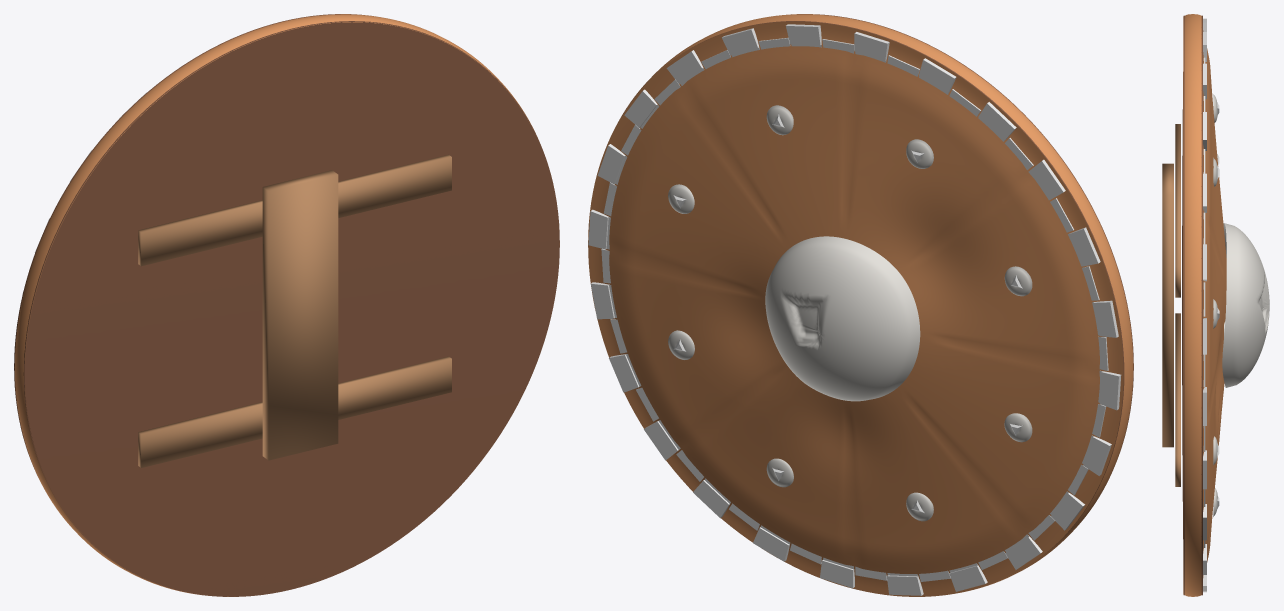
The model's file is pbr_aging_buckler_noring.glb.
3 views of the same model, side by side, from view 1: azimuth 30°, elevation 25°; view 2: azimuth 150°, elevation 25°; view 3: azimuth 270°, elevation 25° (orthographic). The views are drawn at different scales.
Parts seen in each view (by area): view 1: BucklerBackBody_plain, LeatherHandGrip_dielectric, LeatherBackStrap_upper_dielectric, LeatherBackStrap_lower_dielectric, BucklerRoundedOuterEdge_dynamic; view 2: BucklerFrontBody_dynamic, BrassRimInlay_ring, SteelCentralBoss_attached, BucklerRoundedOuterEdge_dynamic, BucklerBackBody_plain; view 3: BucklerRoundedOuterEdge_dynamic, BucklerFrontBody_dynamic, SteelCentralBoss_attached, LeatherHandGrip_dielectric, BucklerBackBody_plain, BrassRimInlay_ring, LeatherBackStrap_upper_dielectric, LeatherBackStrap_lower_dielectric.
Boxes of the visible parts, box(x1,y1,x2,y2) form: BucklerBackBody_plain: box(14, 14, 559, 596); LeatherHandGrip_dielectric: box(262, 170, 338, 460); LeatherBackStrap_upper_dielectric: box(138, 154, 451, 266); LeatherBackStrap_lower_dielectric: box(138, 356, 451, 467); BucklerRoundedOuterEdge_dynamic: box(14, 14, 559, 596); BucklerFrontBody_dynamic: box(588, 21, 1123, 596); BrassRimInlay_ring: box(588, 24, 1121, 595); SteelCentralBoss_attached: box(765, 236, 920, 401); BucklerRoundedOuterEdge_dynamic: box(619, 14, 1133, 591); BucklerBackBody_plain: box(692, 14, 1133, 547); BucklerRoundedOuterEdge_dynamic: box(1183, 14, 1201, 596); BucklerFrontBody_dynamic: box(1203, 30, 1226, 577); SteelCentralBoss_attached: box(1222, 223, 1269, 387); LeatherHandGrip_dielectric: box(1162, 163, 1173, 447); BucklerBackBody_plain: box(1182, 15, 1202, 595); BrassRimInlay_ring: box(1203, 18, 1206, 592); LeatherBackStrap_upper_dielectric: box(1175, 124, 1180, 297); LeatherBackStrap_lower_dielectric: box(1175, 313, 1180, 486).
Size of the model in its own units: 2.01 by 2.01 by 0.3704.
